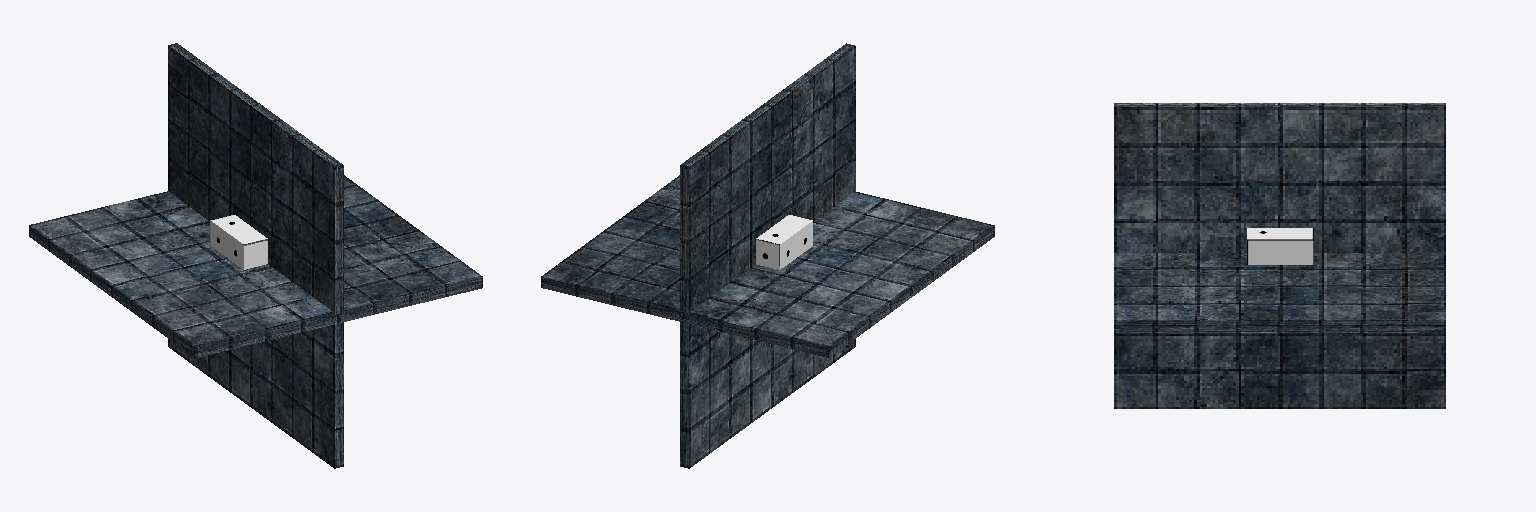
The picture shows the model from 3 angles: view 1: azimuth 30°, elevation 25°; view 2: azimuth 150°, elevation 25°; view 3: azimuth 270°, elevation 25°; orthographic projection.
Visible parts, largest first — view 1: Cube.001_Cube.003, Cube.003_Cube.005, Cube.002_Cube.004, Cube_Cube.001, Cube.002_Cube.003; view 2: Cube.001_Cube.003, Cube.003_Cube.005, Cube.002_Cube.003, Cube.002_Cube.004; view 3: Cube_Cube.001, Cube.003_Cube.005, Cube.002_Cube.004, Cube.002_Cube.003, Cube.001_Cube.003.
Part boxes in pixels (left/top/right/bottom): Cube.001_Cube.003: left=168, top=43, right=342, bottom=466; Cube.003_Cube.005: left=29, top=175, right=482, bottom=355; Cube.002_Cube.004: left=29, top=235, right=482, bottom=357; Cube_Cube.001: left=169, top=165, right=343, bottom=468; Cube.002_Cube.003: left=210, top=214, right=267, bottom=269; Cube.001_Cube.003: left=680, top=43, right=854, bottom=467; Cube.003_Cube.005: left=541, top=175, right=994, bottom=355; Cube.002_Cube.003: left=756, top=215, right=812, bottom=269; Cube.002_Cube.004: left=541, top=235, right=994, bottom=357; Cube_Cube.001: left=1114, top=108, right=1445, bottom=408; Cube.003_Cube.005: left=1114, top=253, right=1445, bottom=322; Cube.002_Cube.004: left=1114, top=323, right=1445, bottom=332; Cube.002_Cube.003: left=1247, top=228, right=1313, bottom=264; Cube.001_Cube.003: left=1114, top=103, right=1445, bottom=107.
Size of the model in its own units: 5 by 5.01 by 5.01.
2 materials, 2 textured.